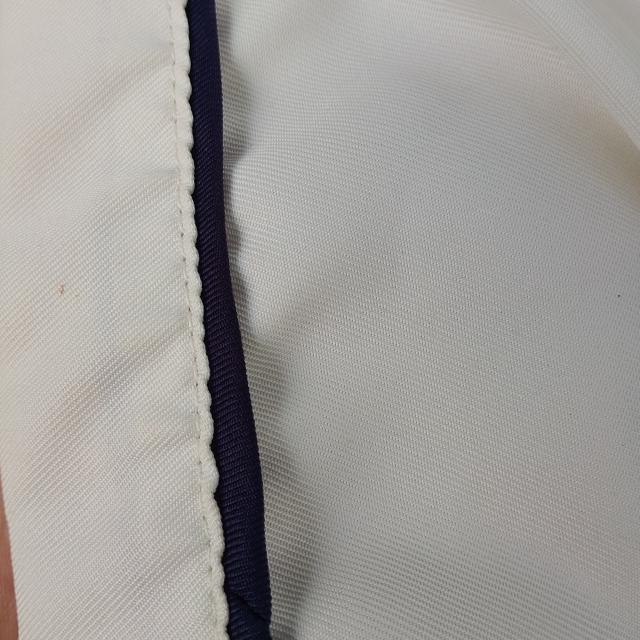education_male_uniform: (0, 3, 598, 640)
